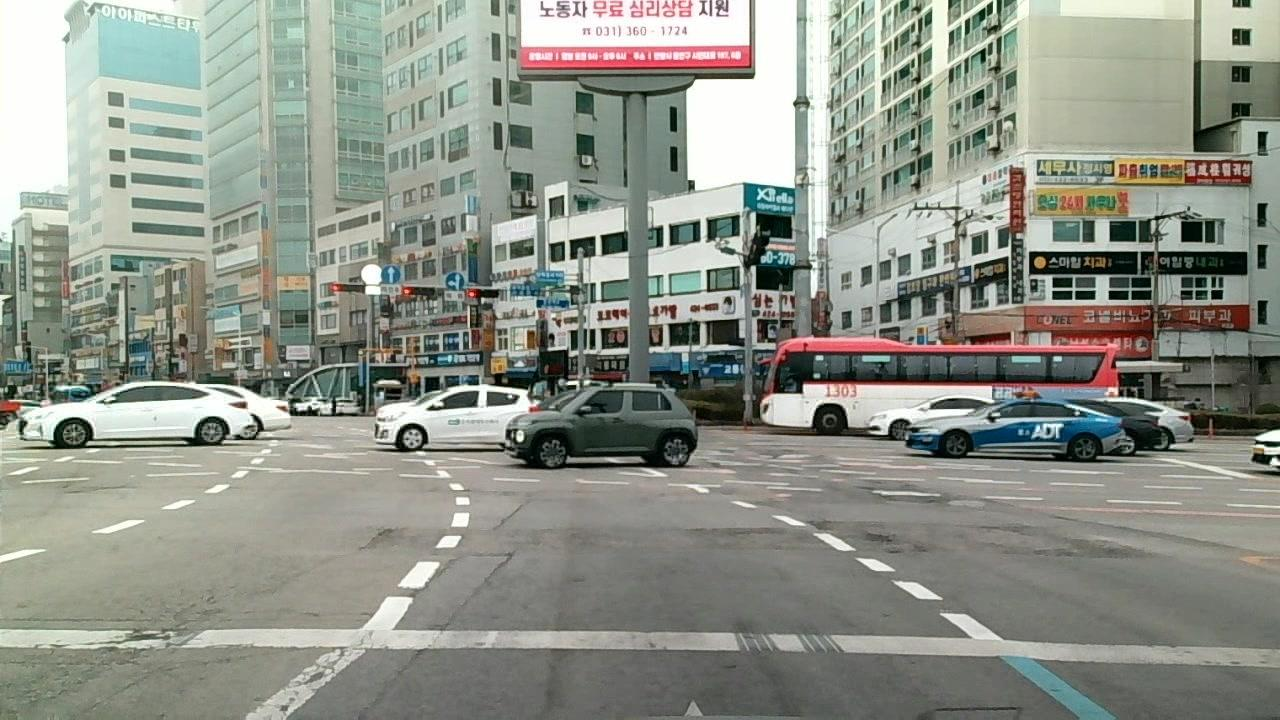erosion: (1, 596, 215, 720)
hcrack: (62, 484, 129, 494)
vcrack: (437, 554, 518, 630), (350, 648, 422, 716), (1183, 534, 1245, 551), (493, 503, 524, 532), (358, 526, 390, 550), (1110, 524, 1175, 535), (687, 525, 788, 532), (1053, 514, 1106, 526)
